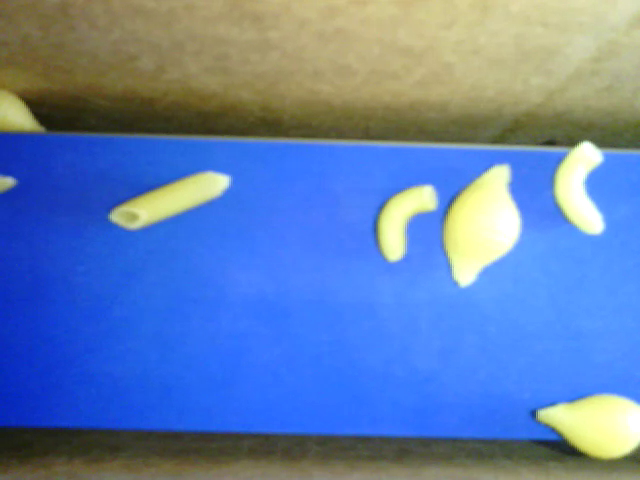elbow: (370, 179, 439, 264), (547, 140, 606, 236), (606, 236, 607, 237)
penne: (105, 167, 244, 233)
shell: (441, 159, 524, 291), (530, 391, 637, 464), (2, 87, 51, 134)
